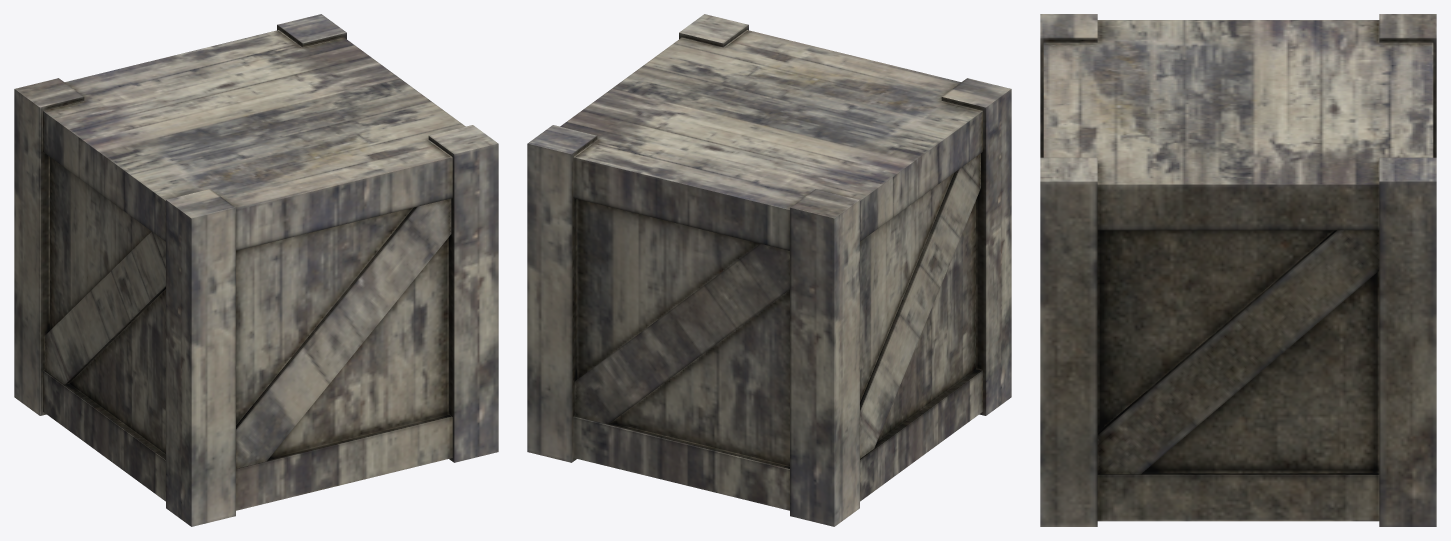
Rendered from WoodenCrate_T01.FBX.
3 renders of one model, left to right at view 1: azimuth 30°, elevation 25°; view 2: azimuth 150°, elevation 25°; view 3: azimuth 270°, elevation 25°, orthographic. The views are drawn at different scales.
Visible parts, largest first — view 1: WoodenCrate_T01; view 2: WoodenCrate_T01; view 3: WoodenCrate_T01.
Part boxes in pixels (x1,y1,x2,y2): WoodenCrate_T01: (14,14,498,526); WoodenCrate_T01: (527,14,1011,526); WoodenCrate_T01: (1040,14,1436,526).
Bounding box in the file's own units: 75.61 × 72.6 × 75.53.
Materials: 1 (1 with a texture image).
